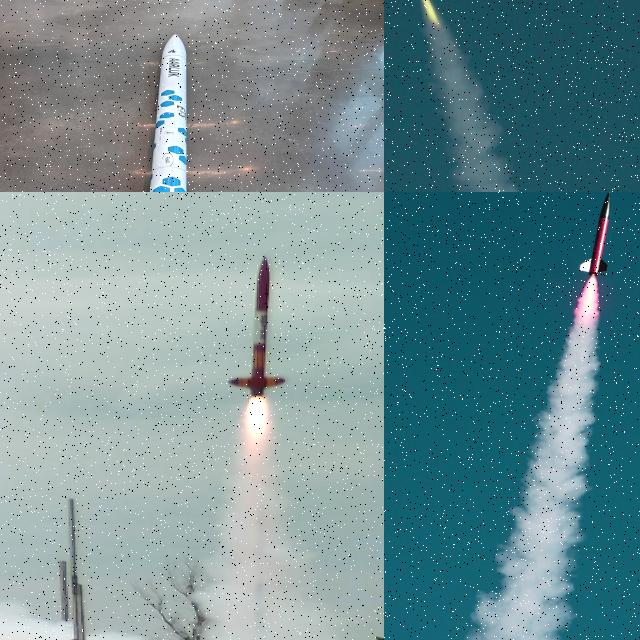Rocket: (226, 253, 286, 397), (149, 33, 187, 192), (579, 192, 611, 276)
